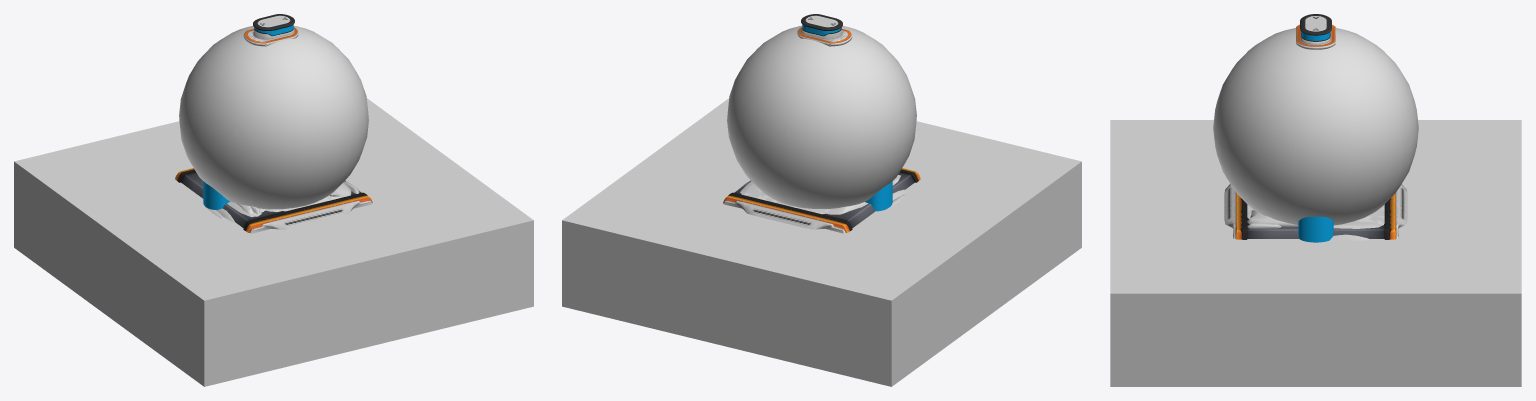
File: SphericalAquariumModel2.fbx
3 renders of one model, left to right at view 1: azimuth 30°, elevation 25°; view 2: azimuth 150°, elevation 25°; view 3: azimuth 270°, elevation 25°, orthographic. The views are drawn at different scales.
Parts seen in each view (by area): view 1: BaseCutter, AquariumSphere, AquariumBase, AquariumLid, Aquarium_glass; view 2: BaseCutter, AquariumSphere, AquariumBase, AquariumLid, Aquarium_glass; view 3: BaseCutter, AquariumSphere, AquariumBase, AquariumLid, Aquarium_glass.
Part boxes in pixels (x1,y1,x2,y2): BaseCutter: (14, 98, 533, 386); AquariumSphere: (179, 25, 368, 216); AquariumBase: (175, 168, 372, 233); AquariumLid: (243, 14, 298, 46); Aquarium_glass: (203, 181, 230, 210); BaseCutter: (562, 98, 1081, 386); AquariumSphere: (727, 25, 916, 214); AquariumBase: (723, 168, 920, 233); AquariumLid: (797, 14, 852, 46); Aquarium_glass: (865, 181, 892, 211); BaseCutter: (1110, 120, 1521, 386); AquariumSphere: (1213, 28, 1418, 227); AquariumBase: (1224, 184, 1407, 240); AquariumLid: (1296, 14, 1335, 49); Aquarium_glass: (1298, 216, 1333, 242).
Size of the model in its own units: 800 by 593 by 800.
